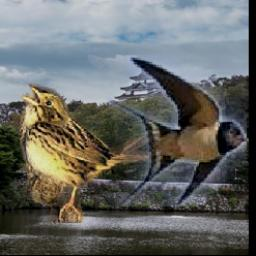Sparrow: (20, 85, 154, 224)
Swallow: (106, 56, 247, 207)
